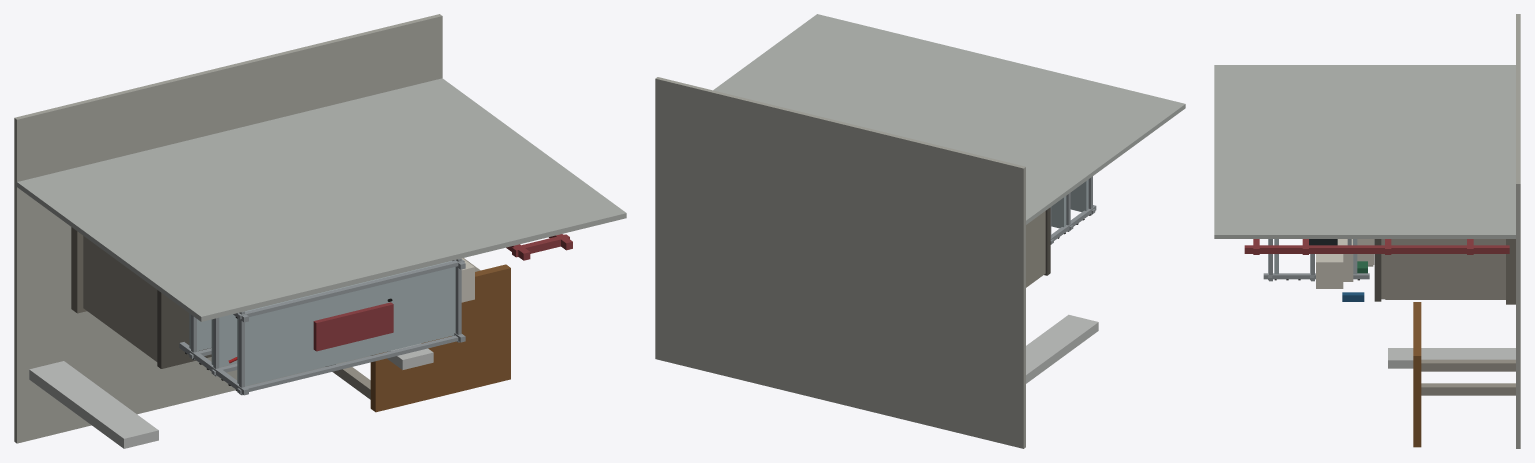
Rendered from model_tu_ke_tu_anh.obj.
The picture shows the model from 3 angles, left to right: view 1: azimuth 30°, elevation 25°; view 2: azimuth 150°, elevation 25°; view 3: azimuth 270°, elevation 25°; orthographic projection. The views are drawn at different scales.
Visible parts, largest first — view 1: tuong_sau, san_nha, mam_ke_3, mat_ban_go_phai, tu_duoi_than_chinh, tam_phu_mo_ben_trai, mach_do_day_dien, mat_tren_tu, thanh_ngang_sau_3, thanh_ngang_truoc_3, chan_de_tu, mam_ke_2 (+3 smaller); view 2: san_nha, tuong_sau, tam_phu_mo_ben_trai, tu_duoi_than_chinh; view 3: tuong_sau, tu_duoi_than_chinh, khung_do_doc_phai_2, san_nha, tam_phu_mo_ben_phai, mat_ban_go_phai, chan_ban_truoc, chan_ban_sau, cuon_vai_tui_trang_2, chan_de_tu, tru_ke_doc_1_0, mat_tren_tu (+1 smaller).
Boxes of the visible parts, left/top/right/bottom form: tuong_sau: left=17, top=78, right=626, bottom=321; san_nha: left=14, top=14, right=442, bottom=443; mam_ke_3: left=237, top=261, right=455, bottom=386; mat_ban_go_phai: left=370, top=264, right=510, bottom=412; tu_duoi_than_chinh: left=83, top=236, right=157, bottom=361; tam_phu_mo_ben_trai: left=29, top=361, right=158, bottom=448; mach_do_day_dien: left=313, top=302, right=393, bottom=351; mat_tren_tu: left=157, top=290, right=211, bottom=368; thanh_ngang_sau_3: left=237, top=259, right=464, bottom=319; thanh_ngang_truoc_3: left=237, top=335, right=458, bottom=394; chan_de_tu: left=71, top=227, right=86, bottom=313; mam_ke_2: left=211, top=314, right=237, bottom=367; san_nha: left=655, top=77, right=1025, bottom=448; tuong_sau: left=713, top=14, right=1185, bottom=224; tam_phu_mo_ben_trai: left=1026, top=314, right=1098, bottom=383; tu_duoi_than_chinh: left=1026, top=211, right=1045, bottom=287; tuong_sau: left=1214, top=65, right=1515, bottom=238; tu_duoi_than_chinh: left=1381, top=239, right=1505, bottom=299; khung_do_doc_phai_2: left=1244, top=245, right=1509, bottom=253; san_nha: left=1516, top=14, right=1520, bottom=448; tam_phu_mo_ben_phai: left=1388, top=348, right=1515, bottom=368; mat_ban_go_phai: left=1413, top=302, right=1421, bottom=447; chan_ban_truoc: left=1421, top=383, right=1515, bottom=395; chan_ban_sau: left=1421, top=359, right=1515, bottom=371; cuon_vai_tui_trang_2: left=1316, top=243, right=1343, bottom=288; chan_de_tu: left=1506, top=239, right=1515, bottom=304; tru_ke_doc_1_0: left=1263, top=273, right=1369, bottom=279; mat_tren_tu: left=1374, top=239, right=1381, bottom=301.
Bounding box in the file's own units: 2.23 × 1.6 × 1.67.
